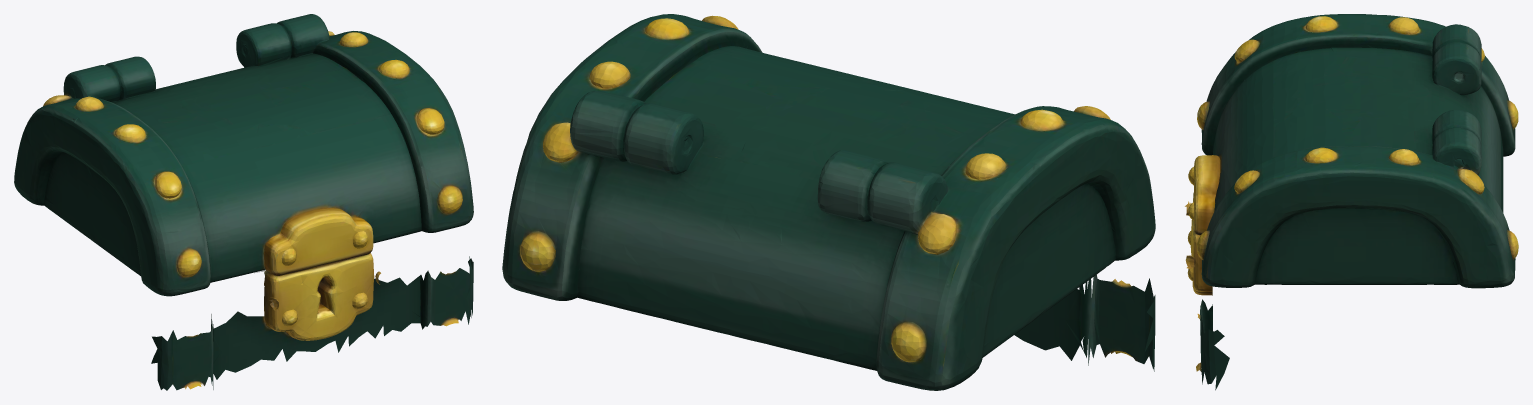
The model's file is chest_lid.glb.
3 views of the same model, side by side, from view 1: azimuth 30°, elevation 25°; view 2: azimuth 150°, elevation 25°; view 3: azimuth 270°, elevation 25° (orthographic). The views are drawn at different scales.
Parts seen in each view (by area): view 1: source_surface_0; view 2: source_surface_0; view 3: source_surface_0.
Boxes of the visible parts, x1,y1,x2,y2 form: source_surface_0: (14, 14, 473, 390); source_surface_0: (502, 14, 1155, 390); source_surface_0: (1185, 14, 1518, 390).
Size of the model in its own units: 0.18 by 0.1222 by 0.1588.
1 material, 1 textured.
